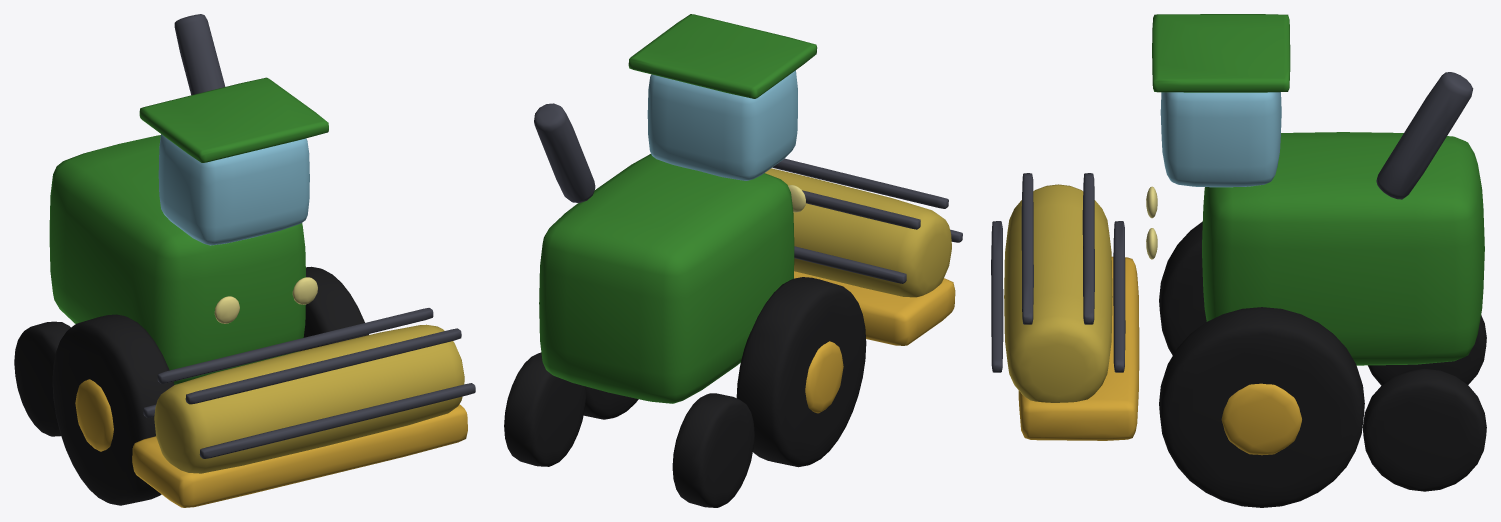
The model's file is Maehdrescher.fbx.
The picture shows the model from 3 angles, left to right: view 1: azimuth 30°, elevation 25°; view 2: azimuth 150°, elevation 25°; view 3: azimuth 270°, elevation 25°; orthographic projection. The views are drawn at different scales.
Parts seen in each view (by area): view 1: Maehdrescher; view 2: Maehdrescher; view 3: Maehdrescher.
Boxes of the visible parts, x1=… form: Maehdrescher: x1=14, y1=14, x2=475, y2=507; Maehdrescher: x1=504, y1=14, x2=962, y2=507; Maehdrescher: x1=991, y1=14, x2=1486, y2=507.
Bounding box in the file's own units: 0.8983 × 1.11 × 1.22.
